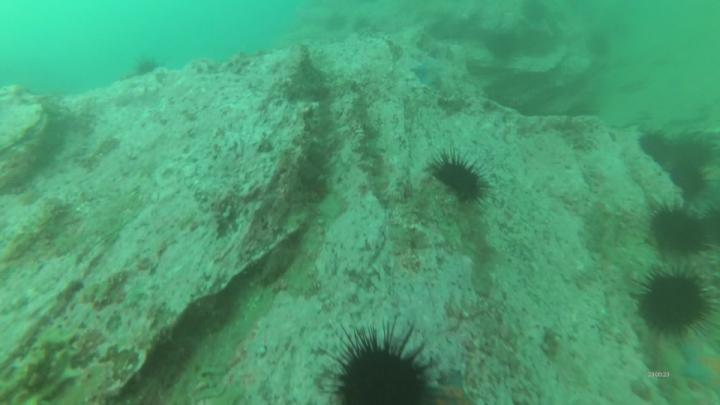echinus: (338, 345, 425, 405), (641, 277, 711, 332), (658, 210, 708, 256), (436, 160, 481, 201), (640, 132, 675, 170), (672, 139, 717, 166), (674, 167, 706, 198)
starfish: (412, 57, 453, 86)
